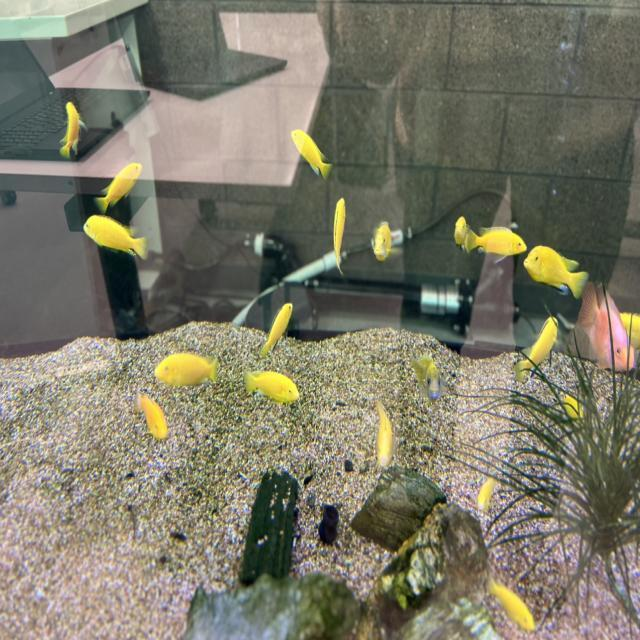YellowCichlid: (482, 569, 548, 640), (77, 215, 152, 275), (529, 230, 588, 306), (148, 342, 224, 391), (252, 294, 306, 362), (283, 118, 335, 186), (234, 366, 308, 412), (408, 338, 452, 409), (516, 316, 560, 384), (362, 404, 406, 472), (96, 159, 144, 216), (478, 216, 526, 266), (329, 195, 352, 294), (367, 213, 403, 276), (136, 395, 168, 462), (60, 82, 86, 164), (445, 201, 473, 260), (470, 471, 501, 522), (558, 393, 592, 422), (623, 309, 640, 343)
